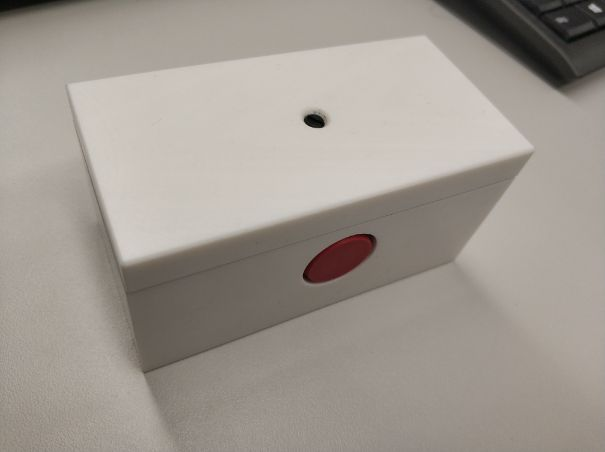white+white+red: (61, 27, 543, 385)
